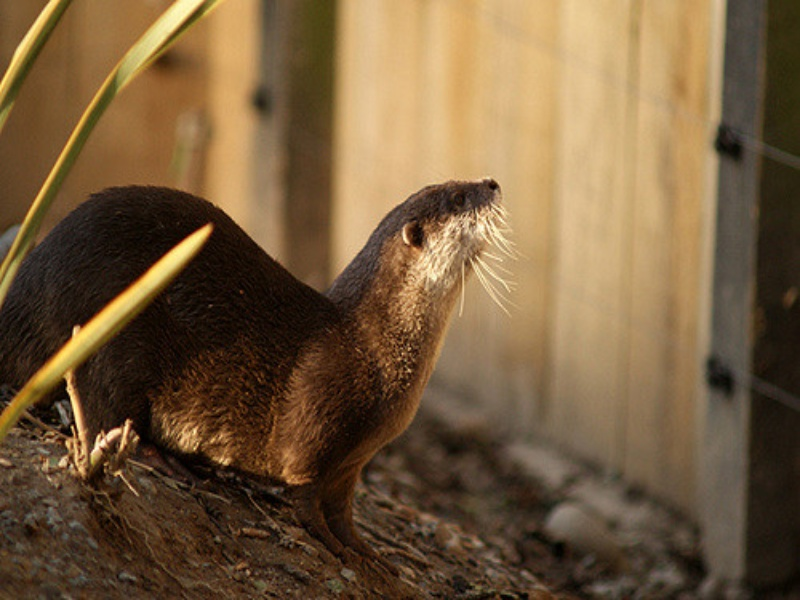minkish: (3, 162, 515, 557)
